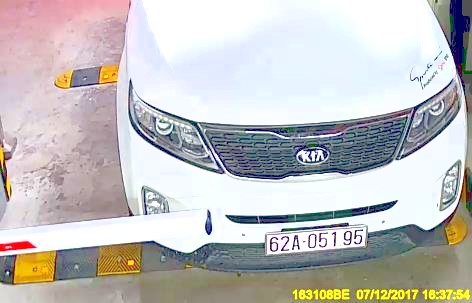plate: (260, 229, 373, 256)
